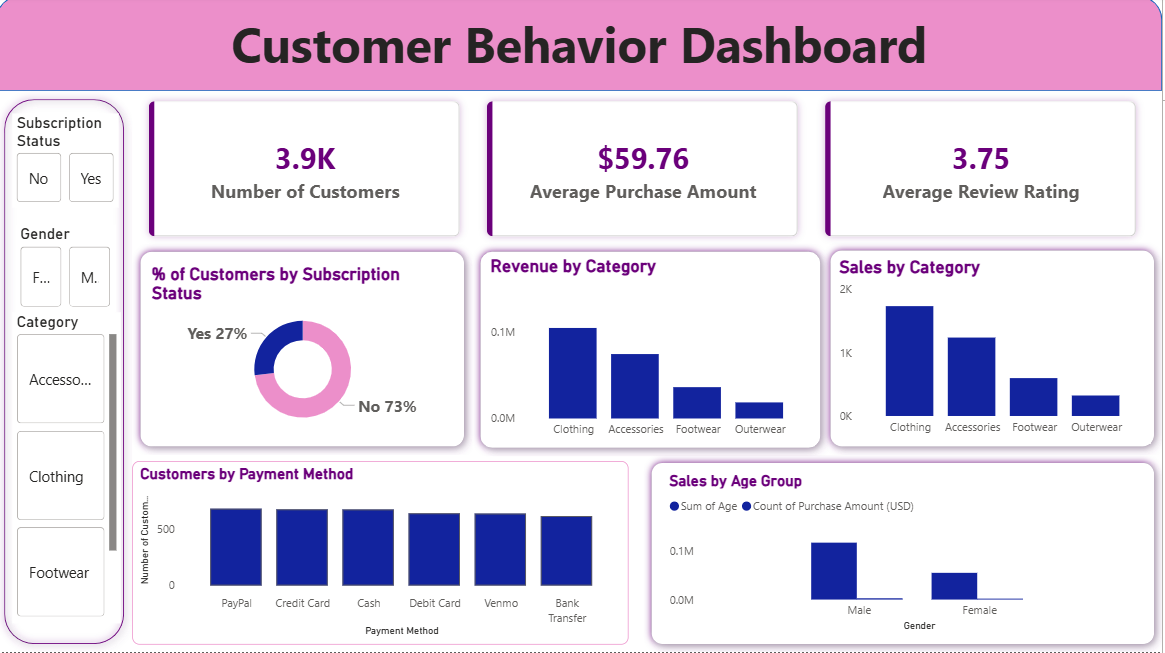

Layout of this report page (visuals, bound fields, positions):
{"tool":"powerbi","page":{"name":"Page 1","canvas":[1280,720],"ordinal":0},"visuals":[{"type":"cardVisual","fields":{"Data":["customer_shopping_behavior.Number of Customers","customer_shopping_behavior.Average Purchase Amount","customer_shopping_behavior.Average Review Rating"]},"box":[140,87.8,1140.3,204.5],"z":0},{"type":"shape","box":[0,0,1280.3,104.3],"z":1000},{"type":"textbox","box":[0,11,1280.3,93.3],"z":2000},{"type":"shape","box":[149.6,271.7,373.2,231.9],"z":3000},{"type":"donutChart","title":"% of Customers by Subscription Status","fields":{"Category":["customer_shopping_behavior.Subscription Status"],"Y":["CountNonNull(customer_shopping_behavior.Customer ID)"]},"box":[166,293.7,341.7,189.4],"z":4000},{"type":"shape","box":[907,270.3,373.2,233.3],"z":5000},{"type":"shape","box":[522.8,271.7,391.1,233.3],"z":6000},{"type":"clusteredColumnChart","title":"Revenue by Category","fields":{"Y":["Sum(customer_shopping_behavior.Purchase Amount (USD))"],"Category":["customer_shopping_behavior.Category"]},"box":[537.9,285.4,360.9,208.6],"z":7000},{"type":"clusteredColumnChart","title":"Sales by Category","fields":{"Y":["CountNonNull(customer_shopping_behavior.Customer ID)"],"Category":["customer_shopping_behavior.Category"]},"box":[920.8,286.8,347.2,204.5],"z":8000},{"type":"shape","box":[0,104.3,149.6,616.1],"z":9000},{"type":"advancedSlicerVisual","fields":{"Values":["customer_shopping_behavior.Subscription Status"]},"box":[17.8,129,116.6,102.9],"z":10000},{"type":"advancedSlicerVisual","fields":{"Values":["customer_shopping_behavior.Gender"]},"box":[22,251.1,109.8,96.1],"z":11000},{"type":"advancedSlicerVisual","fields":{"Values":["customer_shopping_behavior.Category"]},"box":[17.8,347.2,119.4,341.7],"z":12000},{"type":"clusteredColumnChart","title":" Customers by Payment Method","fields":{"Y":["customer_shopping_behavior.Number of Customers"],"Category":["customer_shopping_behavior.Payment Method"]},"box":[149.6,510.5,544.8,201.7],"z":13000},{"type":"shape","box":[710.8,503.6,569.5,216.8],"z":14001},{"type":"clusteredColumnChart","title":"Sales by Age Group","fields":{"Y":["Sum(customer_shopping_behavior.Age)","CountNonNull(customer_shopping_behavior.Purchase Amount (USD))"],"Category":["customer_shopping_behavior.Gender"]},"box":[734.1,521.4,522.8,181.1],"z":14002}]}

Visuals, with their boxes in screenshot pixels (x1, y1, x2, y2), scaled from the page's 1280x720 canvas onto the 1165x653 screenshot:
cardVisual - customer_shopping_behavior.Number of Customers x customer_shopping_behavior.Average Purchase Amount: [x1=127, y1=80, x2=1164, y2=265]
shape: [x1=0, y1=0, x2=1164, y2=95]
textbox: [x1=0, y1=10, x2=1164, y2=95]
shape: [x1=136, y1=246, x2=476, y2=457]
"% of Customers by Subscription Status" donutChart: [x1=151, y1=266, x2=462, y2=438]
shape: [x1=826, y1=245, x2=1164, y2=457]
shape: [x1=476, y1=246, x2=832, y2=458]
"Revenue by Category" clusteredColumnChart: [x1=490, y1=259, x2=818, y2=448]
"Sales by Category" clusteredColumnChart: [x1=838, y1=260, x2=1154, y2=446]
shape: [x1=0, y1=95, x2=136, y2=652]
advancedSlicerVisual - customer_shopping_behavior.Subscription Status: [x1=16, y1=117, x2=122, y2=210]
advancedSlicerVisual - customer_shopping_behavior.Gender: [x1=20, y1=228, x2=120, y2=315]
advancedSlicerVisual - customer_shopping_behavior.Category: [x1=16, y1=315, x2=125, y2=625]
" Customers by Payment Method" clusteredColumnChart: [x1=136, y1=463, x2=632, y2=646]
shape: [x1=647, y1=457, x2=1164, y2=652]
"Sales by Age Group" clusteredColumnChart: [x1=668, y1=473, x2=1144, y2=637]
